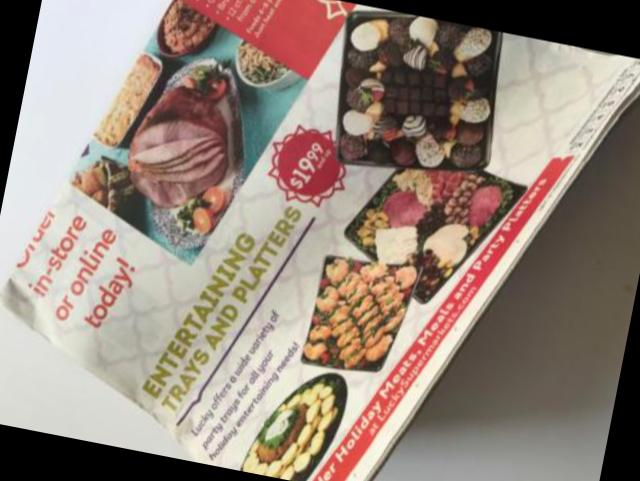cardboard paper: (0, 0, 640, 481), (235, 44, 286, 83)
